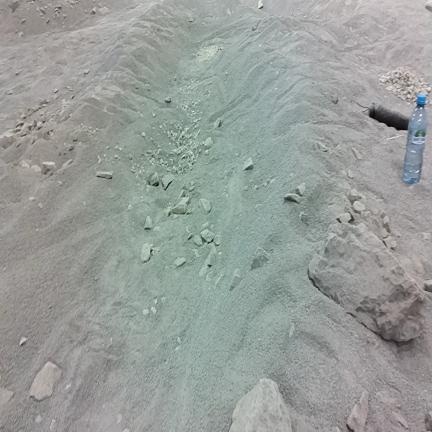Rock: (309, 222, 425, 341), (230, 379, 291, 431), (30, 362, 62, 400), (347, 391, 368, 431), (251, 248, 269, 270), (173, 197, 188, 214), (393, 412, 408, 429), (0, 133, 16, 148), (230, 269, 241, 290), (349, 189, 364, 204), (141, 244, 151, 262), (162, 174, 174, 189), (284, 193, 301, 203), (201, 229, 214, 242), (199, 199, 211, 213), (42, 162, 56, 174), (384, 237, 396, 250), (353, 201, 365, 213), (148, 173, 159, 186), (205, 252, 215, 266), (337, 213, 352, 222), (203, 137, 213, 150), (382, 216, 390, 232), (243, 158, 253, 170), (424, 279, 432, 293), (352, 148, 362, 159), (199, 265, 209, 276), (296, 183, 305, 195), (19, 124, 28, 136), (28, 106, 40, 115), (97, 172, 112, 179), (62, 160, 73, 169), (145, 216, 152, 229), (175, 258, 185, 267), (20, 160, 30, 169), (300, 212, 308, 223), (194, 236, 202, 246), (100, 7, 109, 15), (165, 207, 172, 217), (214, 118, 221, 128), (179, 189, 186, 199), (31, 165, 41, 172), (347, 169, 354, 179), (213, 235, 220, 245), (289, 324, 294, 337), (15, 121, 24, 128), (35, 122, 43, 129), (20, 337, 26, 346), (382, 229, 388, 238), (186, 208, 195, 214), (206, 271, 212, 280), (202, 222, 209, 229), (66, 145, 74, 151), (193, 249, 199, 257), (188, 15, 194, 22), (153, 226, 161, 231), (40, 99, 48, 104), (226, 8, 231, 16), (258, 0, 263, 8), (97, 155, 102, 163), (165, 97, 171, 103), (18, 31, 24, 37), (91, 7, 96, 14), (186, 227, 191, 234), (38, 202, 43, 209), (177, 336, 181, 344), (189, 185, 194, 191), (20, 114, 26, 119), (55, 4, 61, 9), (151, 307, 156, 313), (143, 309, 148, 315), (188, 233, 193, 239), (41, 7, 45, 14), (172, 149, 177, 154), (84, 69, 89, 74), (54, 7, 59, 12), (175, 346, 180, 351), (36, 6, 40, 12), (162, 297, 166, 303), (29, 197, 35, 201), (128, 154, 132, 160), (205, 150, 209, 155), (197, 129, 200, 135), (41, 104, 47, 107), (154, 298, 157, 304), (128, 205, 132, 209), (118, 147, 122, 151), (114, 146, 118, 150), (115, 155, 119, 159), (58, 181, 62, 185), (142, 132, 145, 137), (106, 146, 110, 149), (54, 89, 58, 92), (54, 96, 57, 100), (71, 95, 74, 99), (22, 19, 25, 23), (48, 3, 51, 7), (31, 0, 34, 4), (152, 113, 155, 117), (84, 10, 87, 14), (47, 18, 49, 23), (244, 187, 247, 190), (70, 5, 73, 8)
